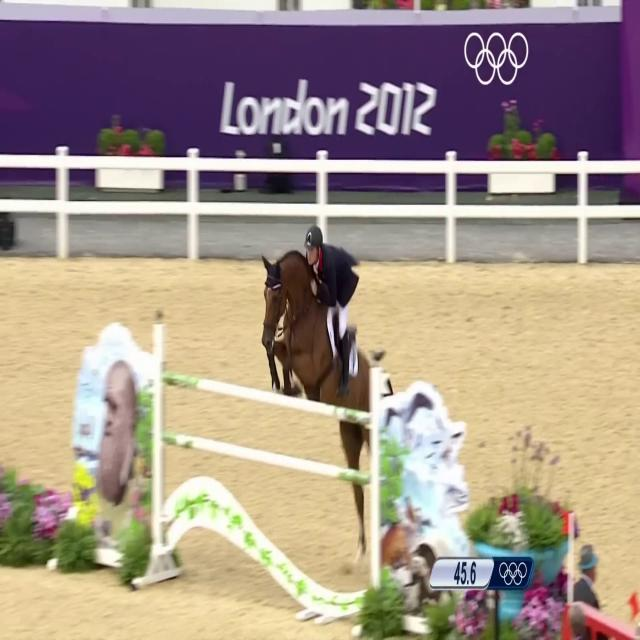Horse Jumping: (237, 220, 426, 554)
Horse Rider: (303, 192, 366, 386)
